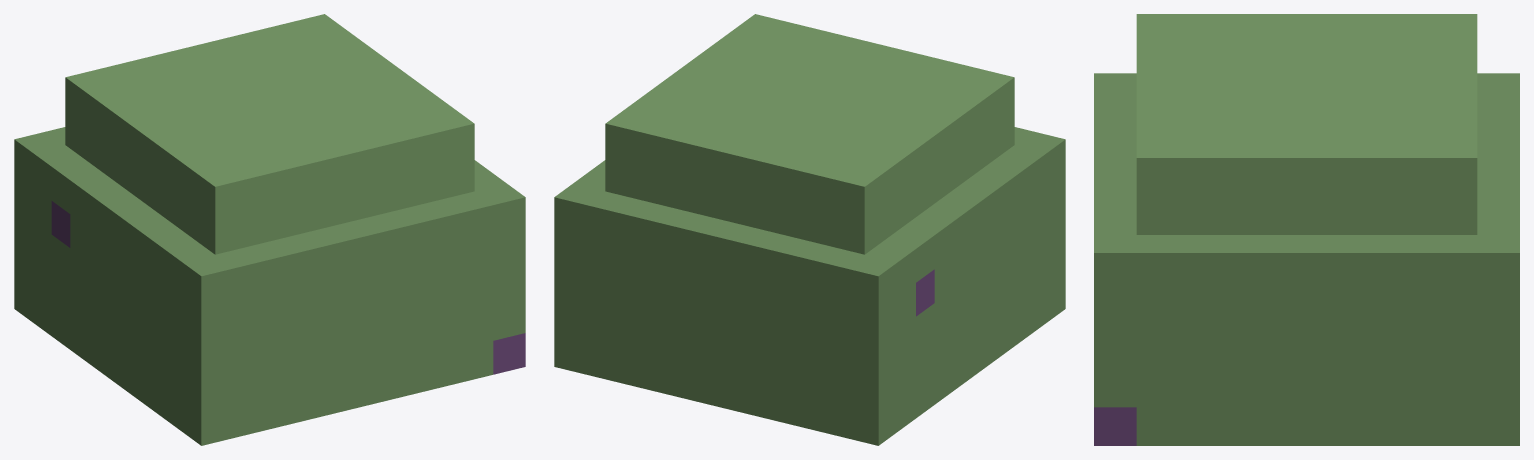
File: mora_05.glb
The picture shows the model from 3 angles, left to right: view 1: azimuth 30°, elevation 25°; view 2: azimuth 150°, elevation 25°; view 3: azimuth 270°, elevation 25°; orthographic projection. The views are drawn at different scales.
Visible parts, largest first — view 1: mora_05; view 2: mora_05; view 3: mora_05.
Part boxes in pixels (<box>): mora_05: <box>14,14,525,445</box>; mora_05: <box>554,14,1065,445</box>; mora_05: <box>1094,14,1519,445</box>.
Size of the model in its own units: 1 by 0.7 by 1.
